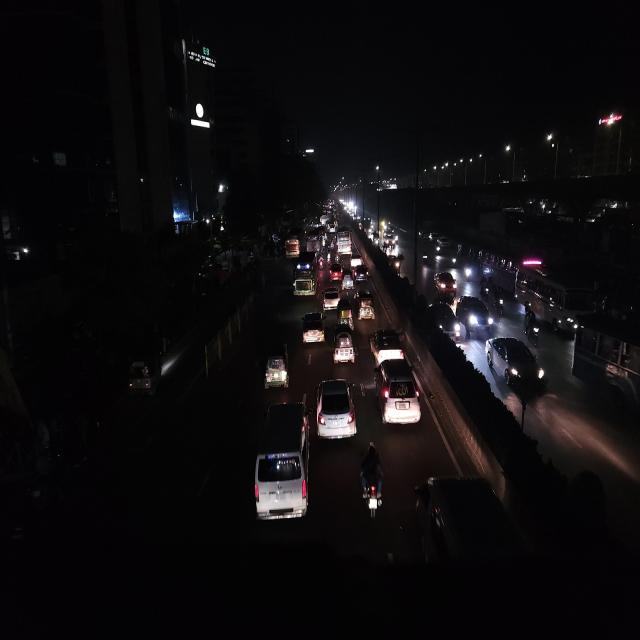bus: (570, 315, 640, 410), (516, 264, 598, 330), (292, 250, 320, 300), (335, 228, 353, 255), (284, 234, 302, 260), (306, 232, 323, 256)
car: (250, 396, 313, 531), (372, 357, 422, 435), (486, 333, 548, 394), (314, 375, 358, 445), (456, 292, 496, 337), (427, 299, 465, 346), (369, 326, 407, 362), (300, 309, 326, 348), (354, 286, 376, 322), (433, 270, 459, 296), (322, 286, 342, 310), (351, 258, 369, 280), (328, 262, 344, 283), (350, 252, 364, 268), (383, 232, 395, 246), (384, 227, 394, 241)
cng: (125, 334, 169, 403), (264, 338, 290, 392), (333, 321, 356, 368), (356, 288, 376, 322), (338, 297, 352, 325)
motorcycle: (358, 440, 387, 520), (523, 308, 543, 345), (494, 286, 507, 317), (463, 260, 475, 282), (421, 252, 431, 270)
